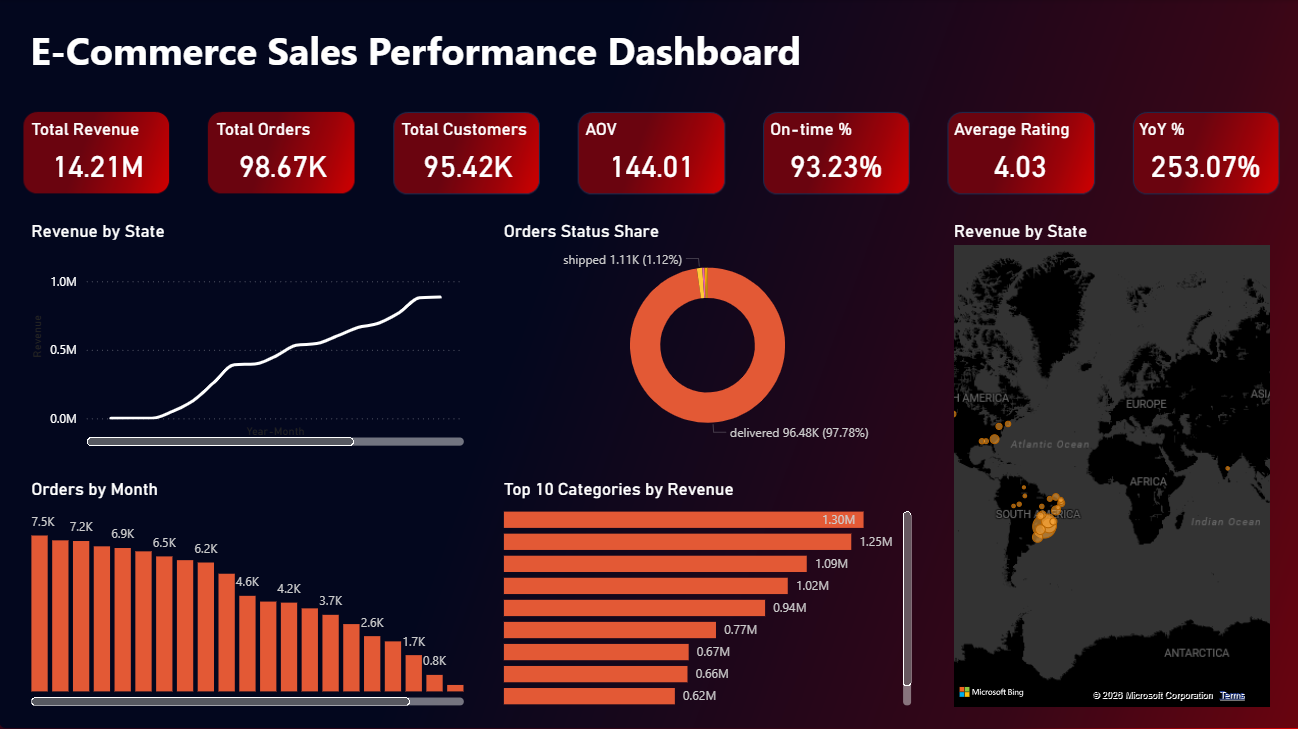

What the dashboard file says about the page in this screenshot:
{"tool":"powerbi","page":{"name":"Overview(Executive Dashboard)","canvas":[1280,720],"ordinal":0},"visuals":[{"type":"card","title":"Total Revenue","fields":{"Values":["public bi_fact_sales.Revenue"]},"box":[27.1,118.2,140.3,70.2],"z":0},{"type":"card","title":"Total Orders","fields":{"Values":["public bi_fact_sales.Orders"]},"box":[208.4,118.2,140.3,70.2],"z":1000},{"type":"card","title":"Total Customers","fields":{"Values":["public bi_fact_sales.Customers"]},"box":[389.7,118.2,140.3,70.2],"z":2000},{"type":"card","title":"AOV","fields":{"Values":["DimDate.AOV"]},"box":[571.1,118.2,140.3,70.2],"z":3000},{"type":"card","title":"On-time %","fields":{"Values":["DimDate.On-time %"]},"box":[752.4,118.2,139.1,70.2],"z":4000},{"type":"card","title":"Average Rating","fields":{"Values":["DimDate.Avg Rating"]},"box":[932.5,118.2,140.3,70.2],"z":5000},{"type":"card","title":"YoY %","fields":{"Values":["public bi_fact_sales.YoY %"]},"box":[1113.8,118.2,140.3,70.2],"z":6000},{"type":"lineChart","title":"Revenue by State","fields":{"Category":["DimDate.Year-Month"],"Y":["public bi_fact_sales.Revenue"]},"box":[27.1,216.6,434.5,226.5],"z":7000},{"type":"clusteredColumnChart","title":"Orders by Month","fields":{"Category":["DimDate.Year-Month"],"Y":["public bi_fact_sales.Orders"]},"box":[27.1,471.4,434.5,227.7],"z":8000},{"type":"barChart","title":"Top 10 Categories by Revenue","fields":{"Category":["public bi_fact_sales.category"],"Y":["public bi_fact_sales.Revenue"]},"box":[491.1,471.4,409.8,227.7],"z":9000},{"type":"donutChart","title":"Orders Status Share","fields":{"Category":["public bi_fact_sales.order_status"],"Y":["public bi_fact_sales.Orders"]},"box":[491.1,216.6,409.8,226.5],"z":10000},{"type":"map","title":"Revenue by State","fields":{"Category":["public bi_fact_sales.customer_state"],"Size":["public bi_fact_sales.Revenue"]},"box":[932.9,216.6,320,482.5],"z":11000},{"type":"textbox","box":[25.8,19.6,1228.2,81],"z":12000}]}

Visuals, with their boxes in screenshot pixels (x1, y1, x2, y2), scaled from the page's 1280x720 canvas onto the 1298x729 screenshot:
"Total Revenue" card: box=[27, 120, 170, 191]
"Total Orders" card: box=[211, 120, 354, 191]
"Total Customers" card: box=[395, 120, 537, 191]
"AOV" card: box=[579, 120, 721, 191]
"On-time %" card: box=[763, 120, 904, 191]
"Average Rating" card: box=[946, 120, 1088, 191]
"YoY %" card: box=[1129, 120, 1272, 191]
"Revenue by State" lineChart: box=[27, 219, 468, 449]
"Orders by Month" clusteredColumnChart: box=[27, 477, 468, 708]
"Top 10 Categories by Revenue" barChart: box=[498, 477, 914, 708]
"Orders Status Share" donutChart: box=[498, 219, 914, 449]
"Revenue by State" map: box=[946, 219, 1271, 708]
textbox: box=[26, 20, 1272, 102]
